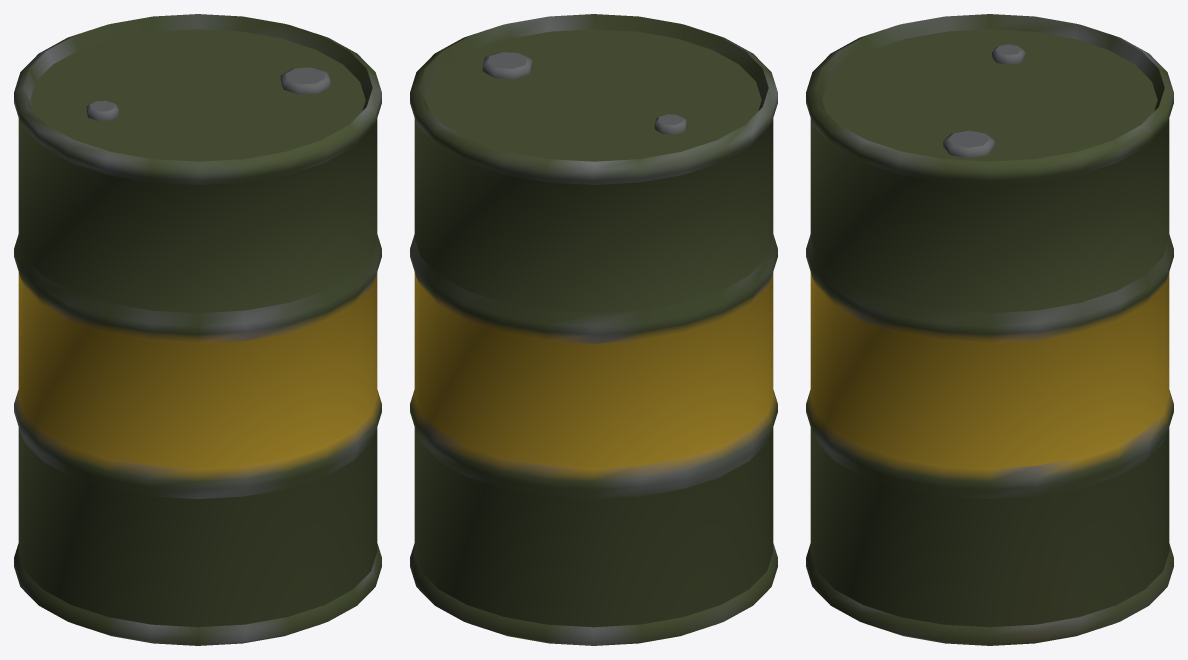
The model's file is drum.steel.olive.glb.
3 renders of one model, left to right at view 1: azimuth 30°, elevation 25°; view 2: azimuth 150°, elevation 25°; view 3: azimuth 270°, elevation 25°, orthographic.
Parts seen in each view (by area): view 1: drum_steel_olive; view 2: drum_steel_olive; view 3: drum_steel_olive.
Part boxes in pixels (box(x1,y1,x2,y2)): drum_steel_olive: box(14, 14, 381, 645); drum_steel_olive: box(410, 14, 777, 645); drum_steel_olive: box(806, 14, 1173, 645).
Size of what is drawn, in the model's own units: 0.653 by 0.95 by 0.653.
